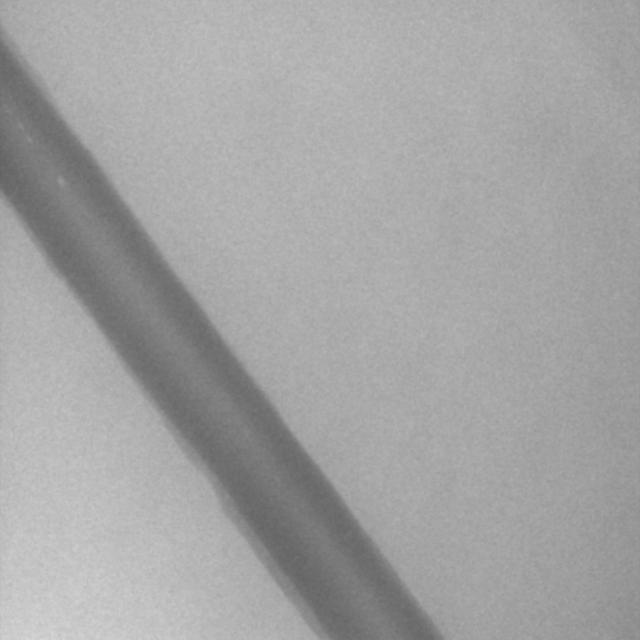air hole: (54, 171, 68, 190)
